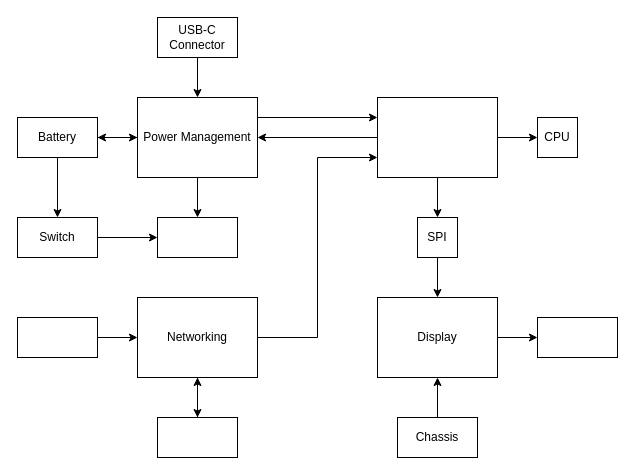
Some shapes in this 635 by 475 pixel diagram are drawn without their labels. Here are the shapes that lost their labels. From the top down, the centre of each, then its label:
At [437,137]: "Controller".
At [197,237]: "Voltage Regulator".
At [57,337]: "Wi-Fi Module".
At [577,337]: "Screen".
At [197,437]: "APIs".
